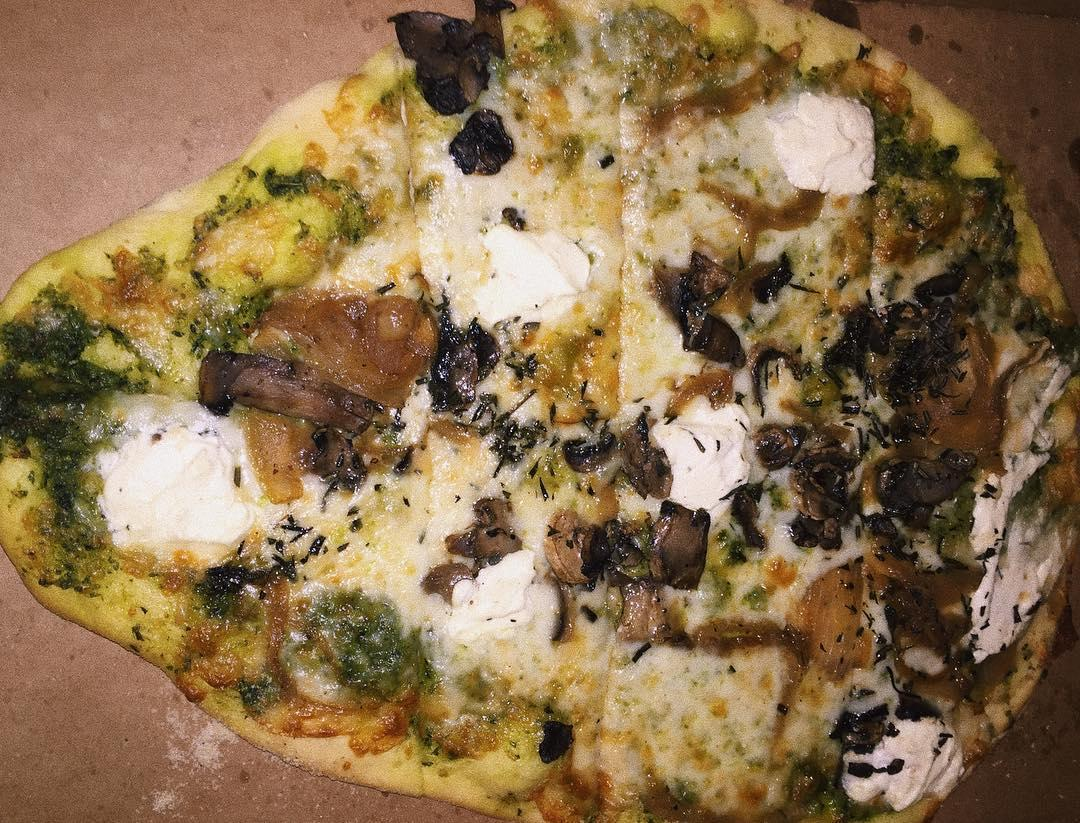Mushroom: (826, 253, 980, 431), (726, 410, 866, 562), (195, 346, 386, 443), (543, 501, 719, 604), (390, 0, 510, 120), (640, 249, 744, 378), (425, 488, 525, 602), (571, 400, 674, 501), (868, 436, 979, 516), (449, 100, 525, 185), (734, 331, 809, 413), (604, 574, 676, 648), (300, 421, 369, 490), (654, 369, 729, 423), (741, 240, 795, 303)
Pizza: (0, 0, 1080, 823)
